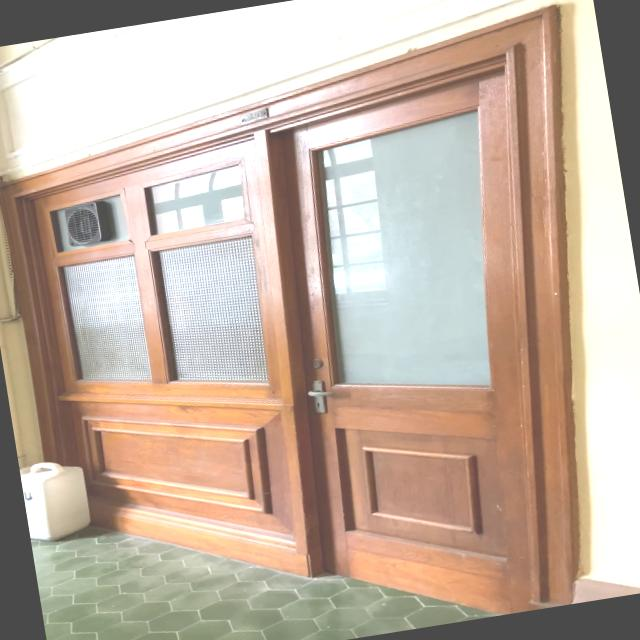room230: (237, 106, 272, 128)
